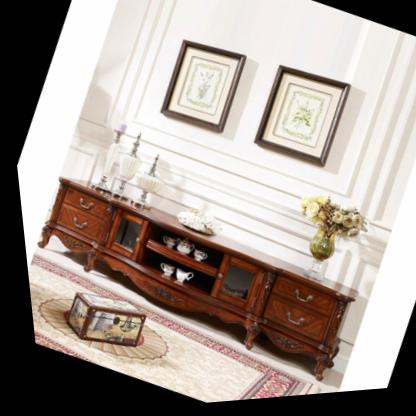TV stand: (14, 150, 368, 401)
